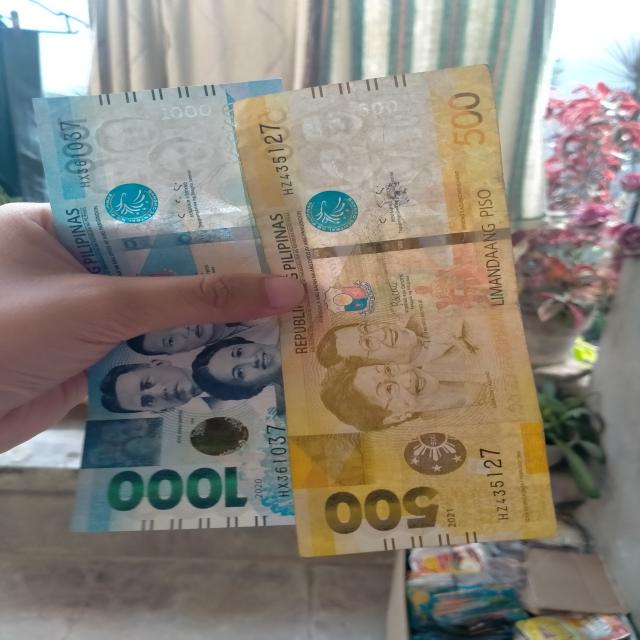concealed_value: (284, 431, 376, 490), (80, 419, 163, 469)
optically_variable_device: (176, 410, 263, 468), (396, 424, 479, 482)
security_thread: (260, 226, 512, 259), (45, 227, 261, 256)
value: (106, 463, 254, 517), (317, 481, 436, 536)
value_watermark: (349, 98, 403, 119), (156, 105, 215, 120)
watermark: (75, 115, 226, 194), (296, 104, 426, 189)
